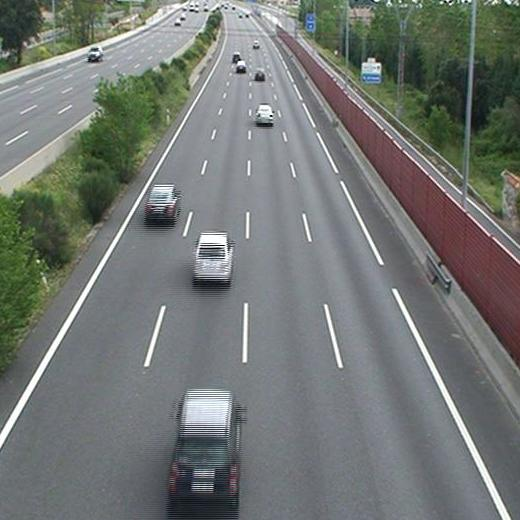car: (169, 390, 238, 492), (193, 232, 232, 279), (145, 183, 179, 216), (255, 106, 274, 123), (255, 70, 266, 80), (236, 61, 247, 71), (232, 52, 242, 61)
